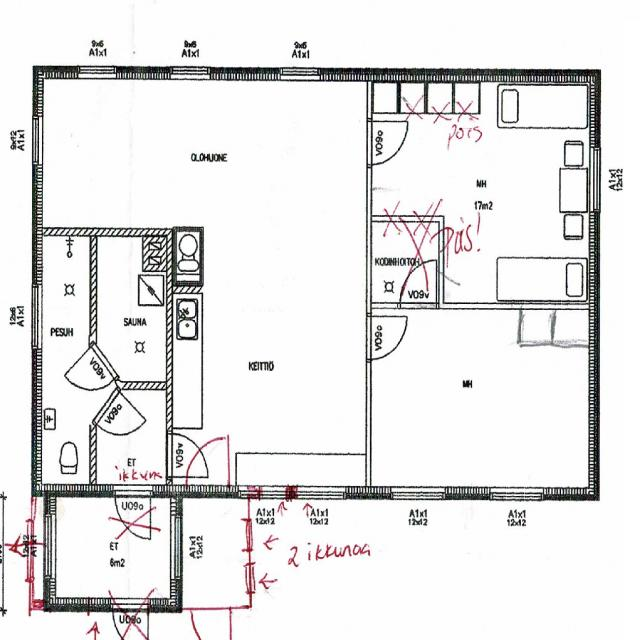door: (66, 343, 118, 405), (94, 387, 144, 447), (187, 435, 229, 497), (366, 316, 407, 360), (191, 598, 232, 640), (166, 435, 206, 476), (366, 122, 405, 162)
